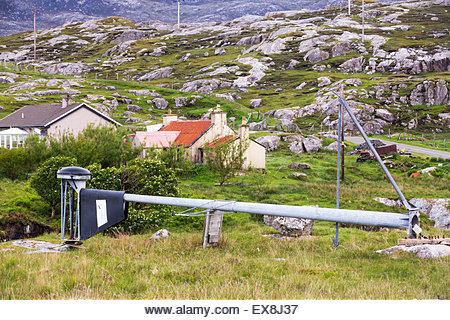faulty: (58, 183, 425, 246)
